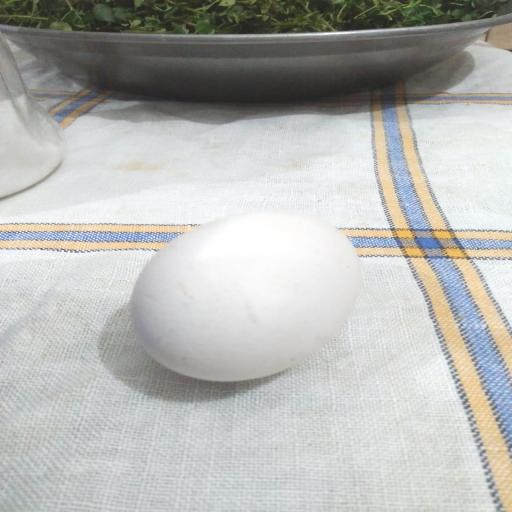telur: (110, 210, 365, 394)
